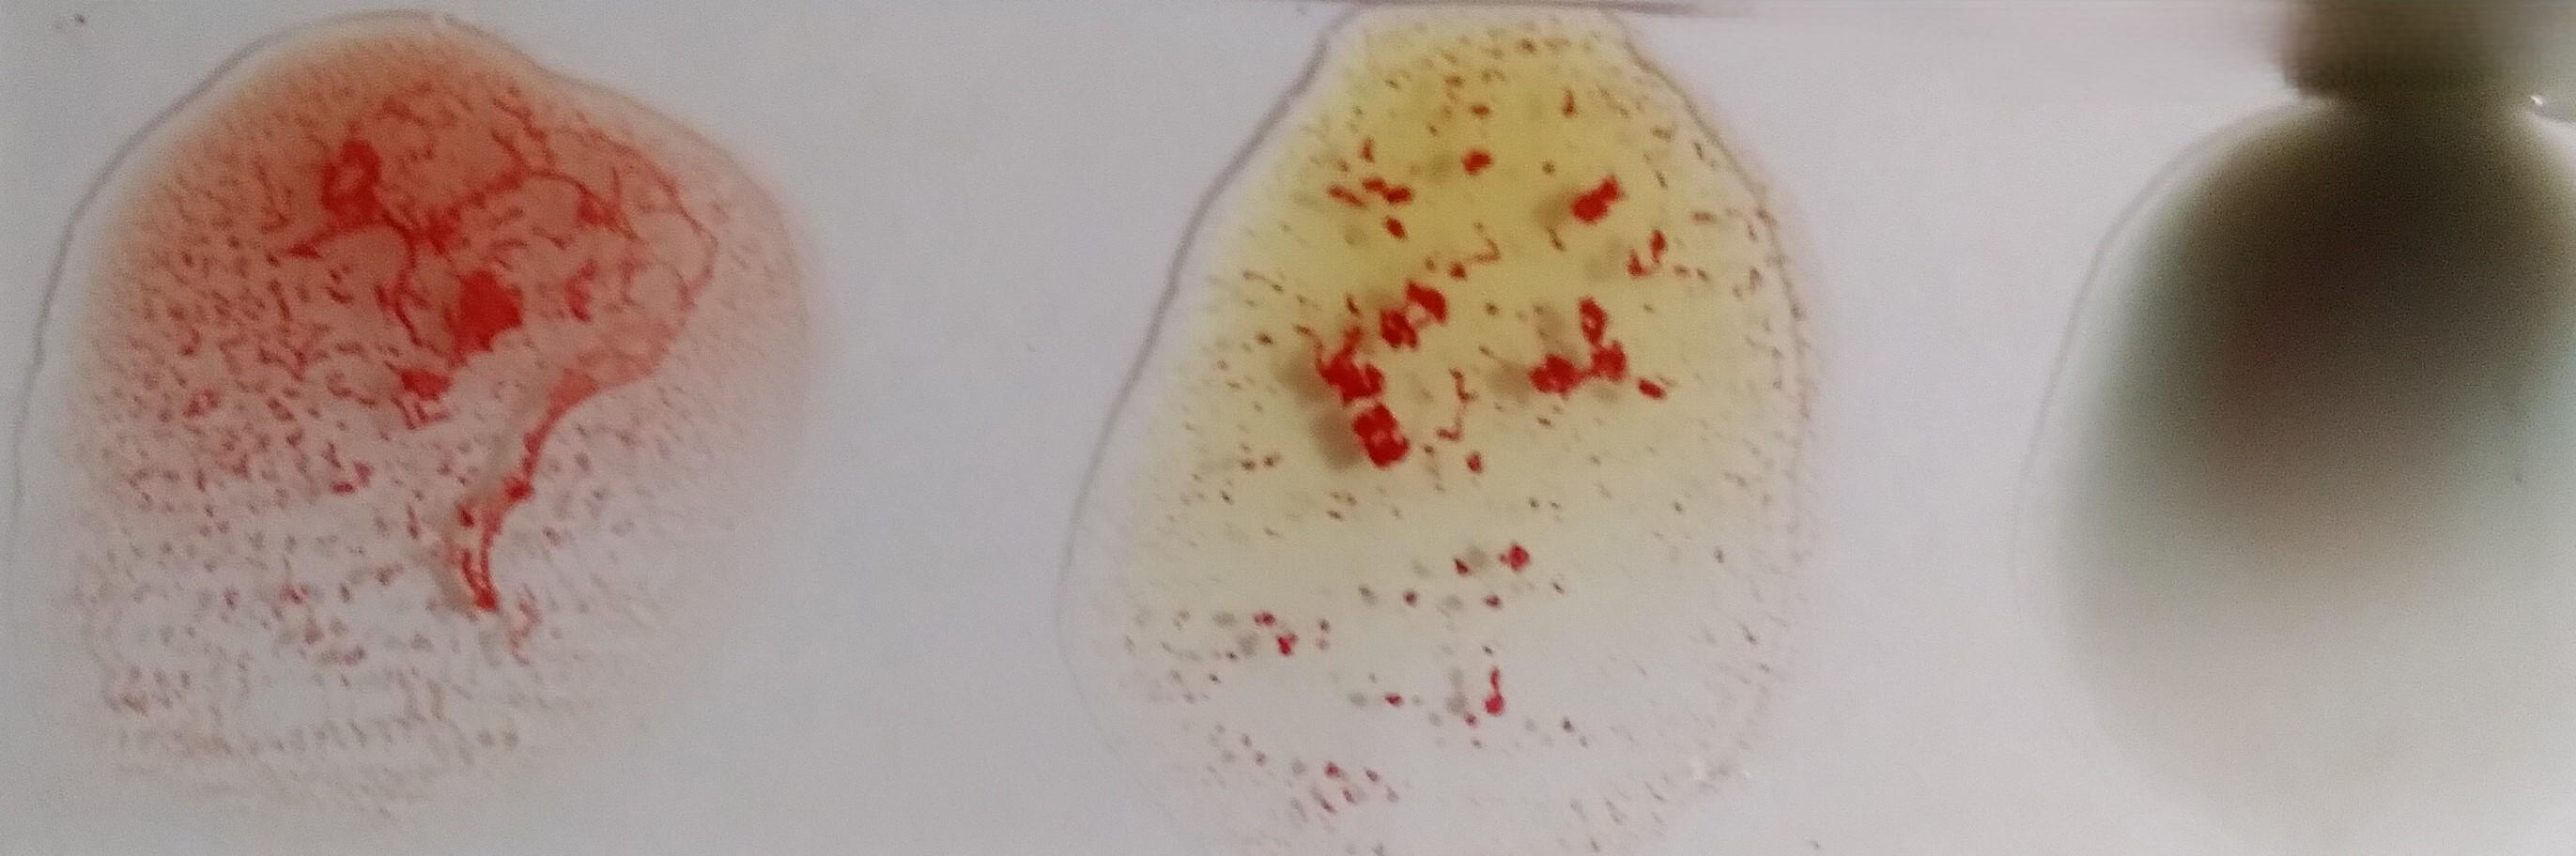B: (1125, 21, 1797, 826)
D: (76, 44, 690, 813)
